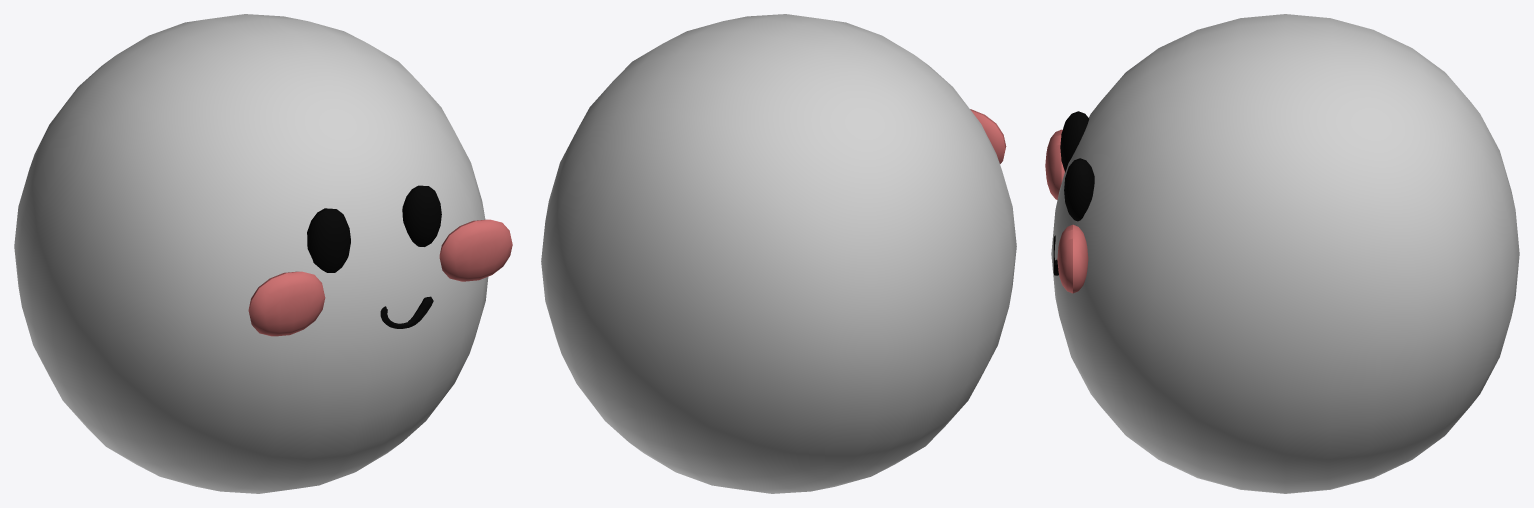
The model's file is Luna.fbx.
The picture shows the model from 3 angles, left to right: view 1: azimuth 30°, elevation 25°; view 2: azimuth 150°, elevation 25°; view 3: azimuth 270°, elevation 25°; orthographic projection.
Visible parts, largest first — view 1: Mesh; view 2: Mesh; view 3: Mesh.
Part boxes in pixels (<box>): Mesh: <box>14,14,512,493</box>; Mesh: <box>541,14,1016,493</box>; Mesh: <box>1045,14,1519,493</box>.
Bounding box in the file's own units: 136 × 139 × 138.
